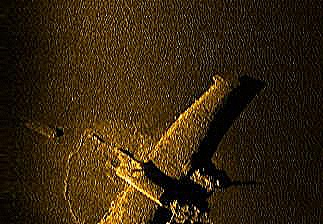aircraft: (62, 73, 231, 222)
